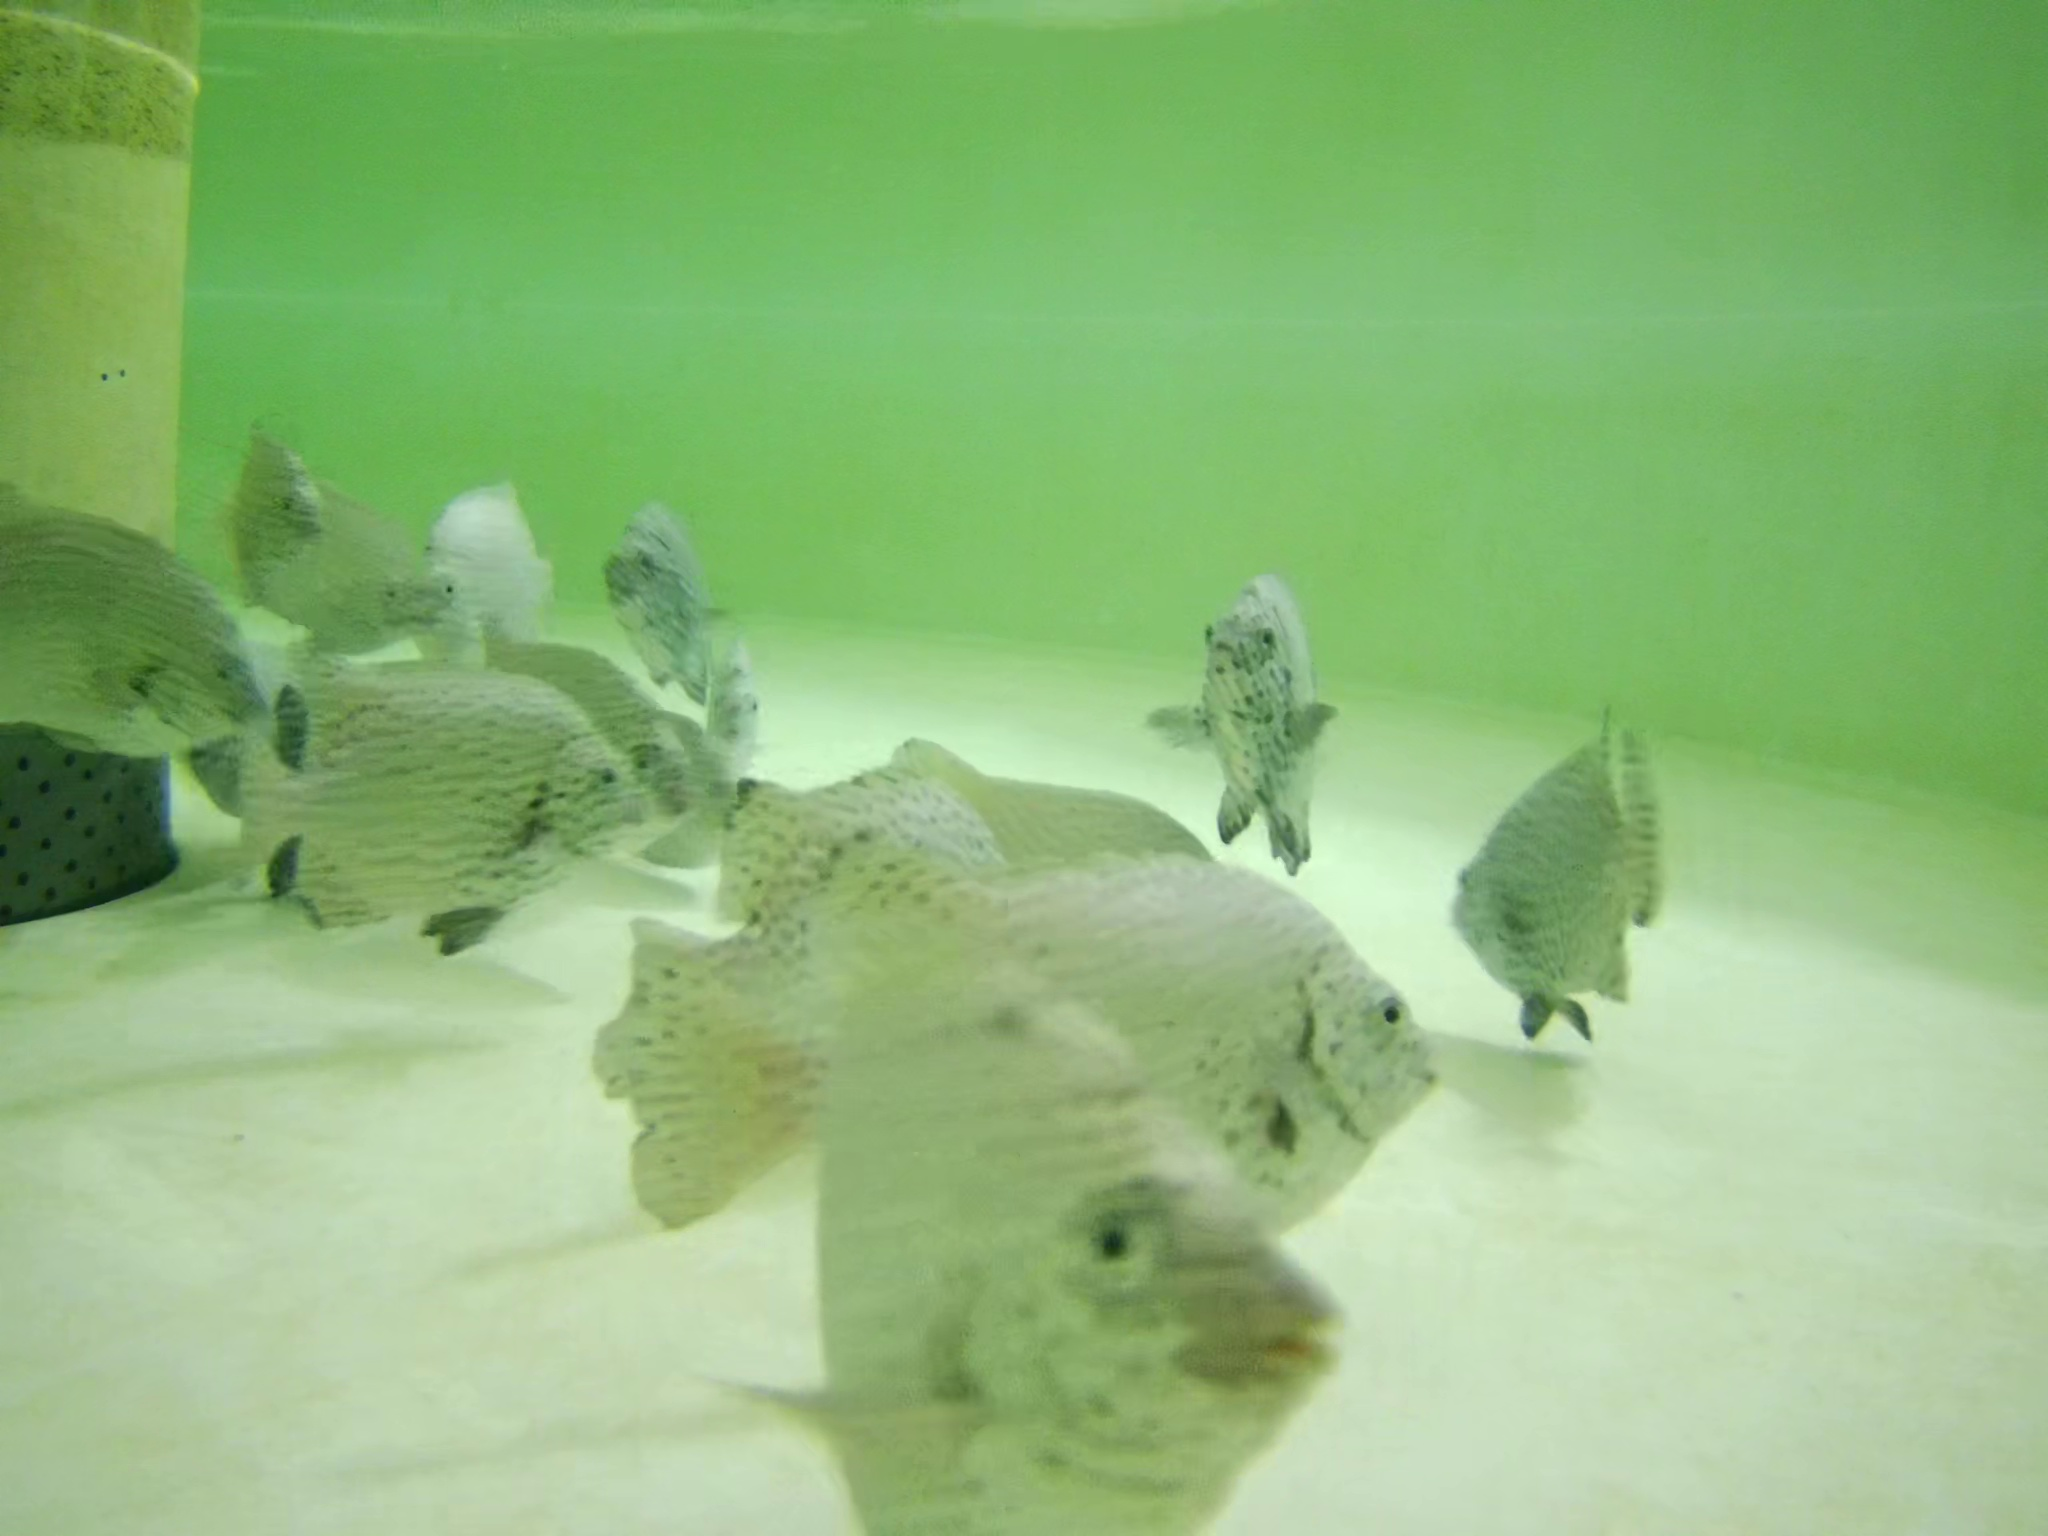fish: (793, 913, 1337, 1536), (601, 860, 1445, 1244), (237, 650, 685, 957), (851, 710, 1226, 965), (2, 463, 287, 771), (1451, 708, 1675, 1037), (1145, 565, 1364, 870), (742, 742, 1013, 957), (460, 607, 692, 836), (587, 474, 764, 699), (676, 616, 793, 836), (218, 424, 350, 610), (429, 495, 569, 631)
